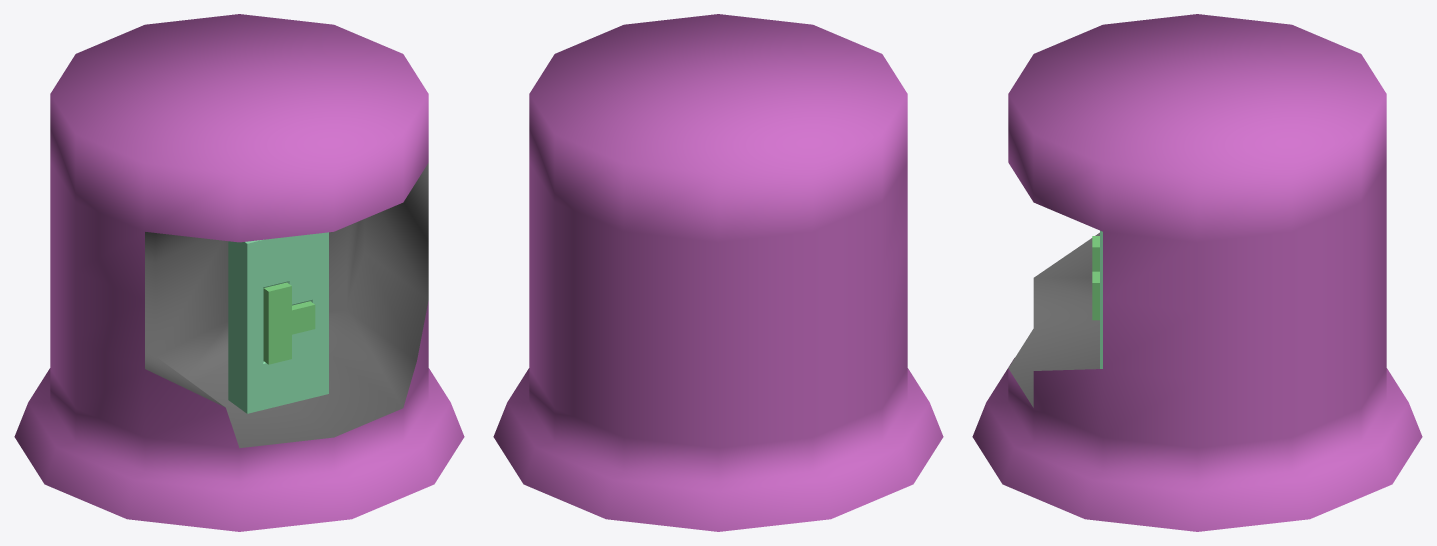
The model's file is Generator_T.fbx.
The picture shows the model from 3 angles, left to right: view 1: azimuth 30°, elevation 25°; view 2: azimuth 150°, elevation 25°; view 3: azimuth 270°, elevation 25°; orthographic projection.
Visible parts, largest first — view 1: Generator, T_Holder, Generator_T; view 2: Generator; view 3: Generator, Generator_T.
Boxes of the visible parts, bbox=[...] form: Generator: bbox=[14, 14, 464, 531]; T_Holder: bbox=[228, 232, 328, 413]; Generator_T: bbox=[263, 282, 315, 364]; Generator: bbox=[493, 14, 943, 531]; Generator: bbox=[972, 14, 1422, 531]; Generator_T: bbox=[1092, 236, 1099, 320].
Bounding box in the file's own units: 2.38 × 2 × 2.38.
